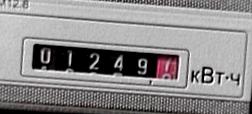0: (38, 45, 54, 66)
1: (63, 48, 75, 68)
2: (87, 51, 102, 72)
4: (112, 53, 125, 73)
7: (160, 54, 174, 74)
9: (135, 56, 150, 78)
screen: (11, 29, 190, 95)
